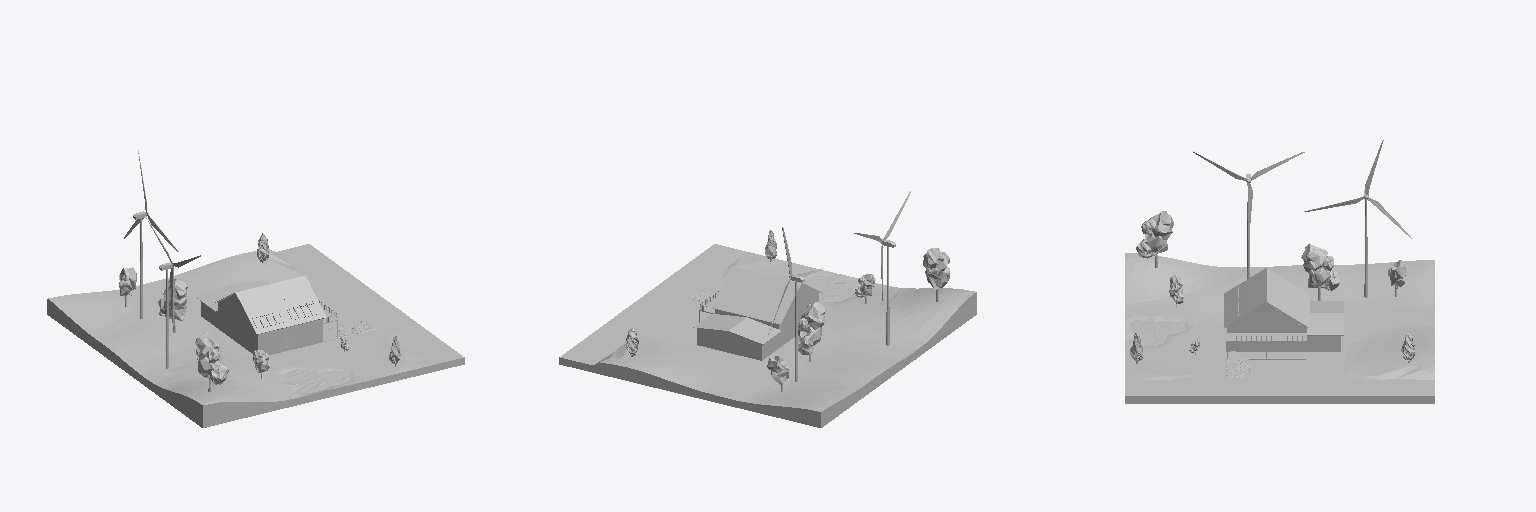
The model's file is safe energy.obj.
The picture shows the model from 3 angles: view 1: azimuth 30°, elevation 25°; view 2: azimuth 150°, elevation 25°; view 3: azimuth 270°, elevation 25°; orthographic projection.
Visible parts, largest first — view 1: Box001, Box002, Cati, Plane005; view 2: Box001, Cati, Box002, Plane005; view 3: Box001, Cati, Box002, Plane005, Box004, Box112, Cylinder026, Cylinder028.
Part boxes in pixels (x1,y1,x2,y2): Box001: (47, 244, 464, 427); Box002: (201, 294, 322, 354); Cati: (197, 276, 326, 334); Plane005: (284, 369, 351, 392); Box001: (559, 244, 976, 427); Cati: (693, 266, 822, 344); Box002: (697, 284, 818, 360); Plane005: (804, 275, 860, 301); Box001: (1125, 253, 1434, 403); Cati: (1224, 268, 1343, 335); Box002: (1226, 303, 1340, 351); Plane005: (1129, 320, 1185, 346); Box004: (1226, 333, 1306, 341); Box112: (1226, 352, 1305, 359); Cylinder026: (1193, 151, 1304, 239); Cylinder028: (1304, 140, 1411, 238).
Bounding box in the file's own units: 4870 × 2975 × 5000.